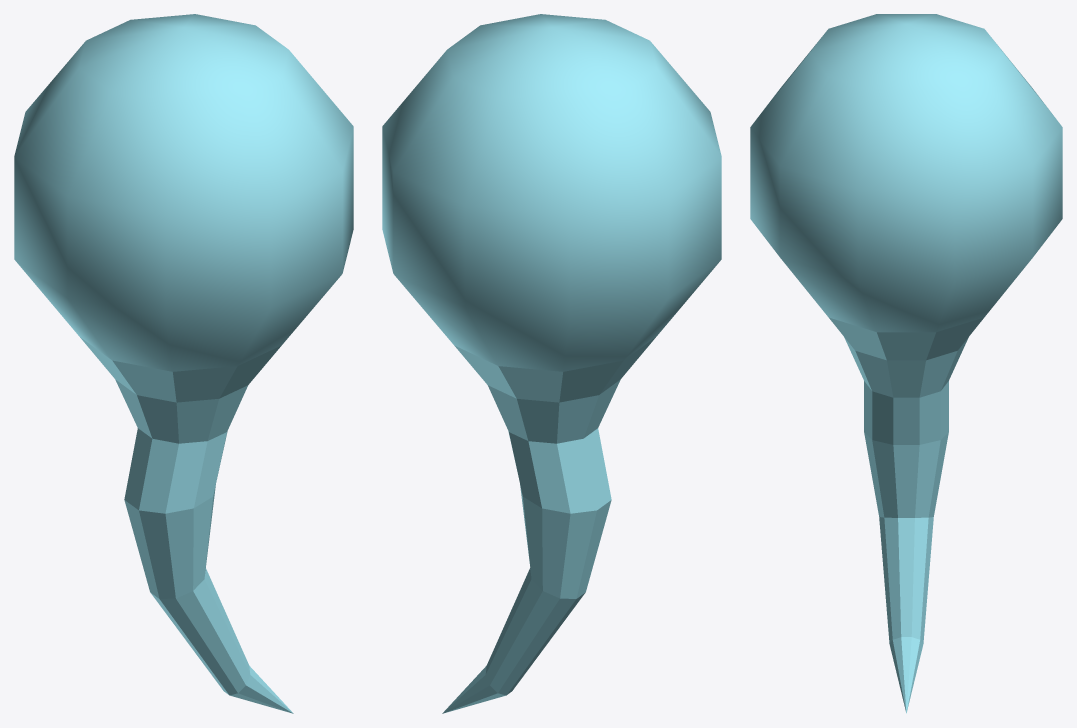
The model's file is SK_ChickenV0@Soul.fbx.
3 renders of one model, left to right at view 1: azimuth 30°, elevation 25°; view 2: azimuth 150°, elevation 25°; view 3: azimuth 270°, elevation 25°, orthographic. The views are drawn at different scales.
Visible parts, largest first — view 1: Sphere001; view 2: Sphere001; view 3: Sphere001.
Boxes of the visible parts, x1,y1,x2,y2 form: Sphere001: [14, 14, 353, 713]; Sphere001: [382, 14, 721, 713]; Sphere001: [750, 14, 1062, 713].
Size of the model in its own units: 79.9 by 190 by 84.01.
